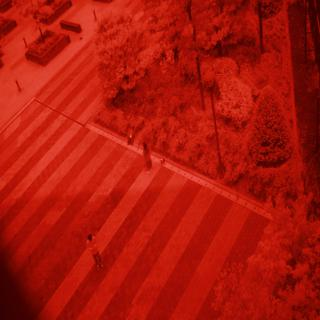person: (85, 228, 109, 276), (139, 136, 159, 176)
